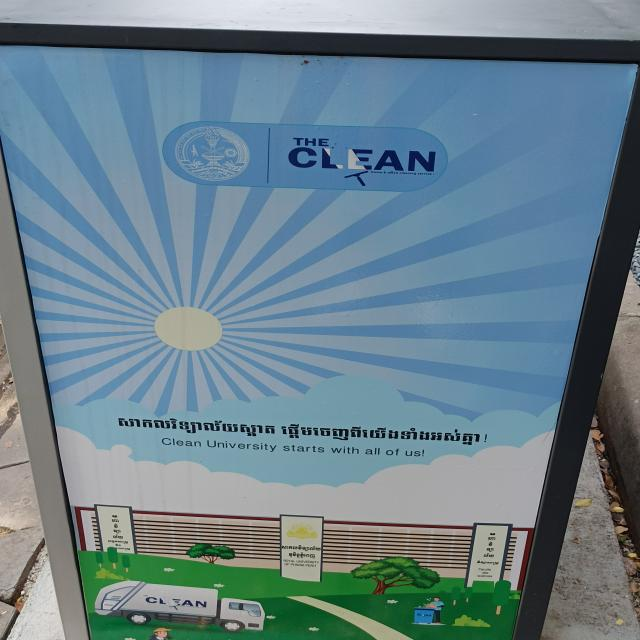1: (114, 412, 486, 447)
Yolov11_80vkh: (280, 543, 323, 552), (287, 551, 318, 560)
